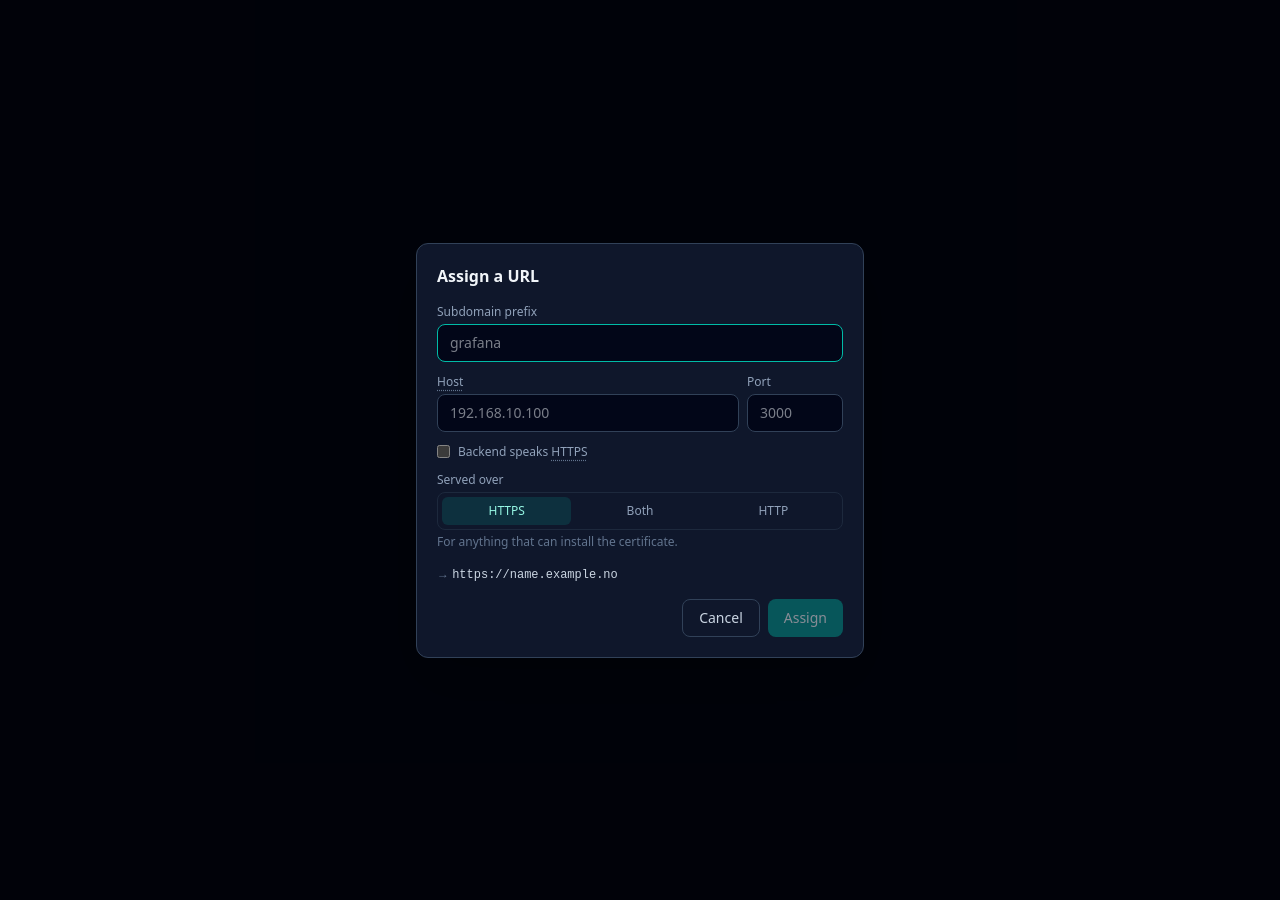
Test: shows where it will open as you type the prefix, over the scheme picked
In the field with placeholder "grafana": coordinates (640, 342) 437,324 -> 843,362, type "jelly"
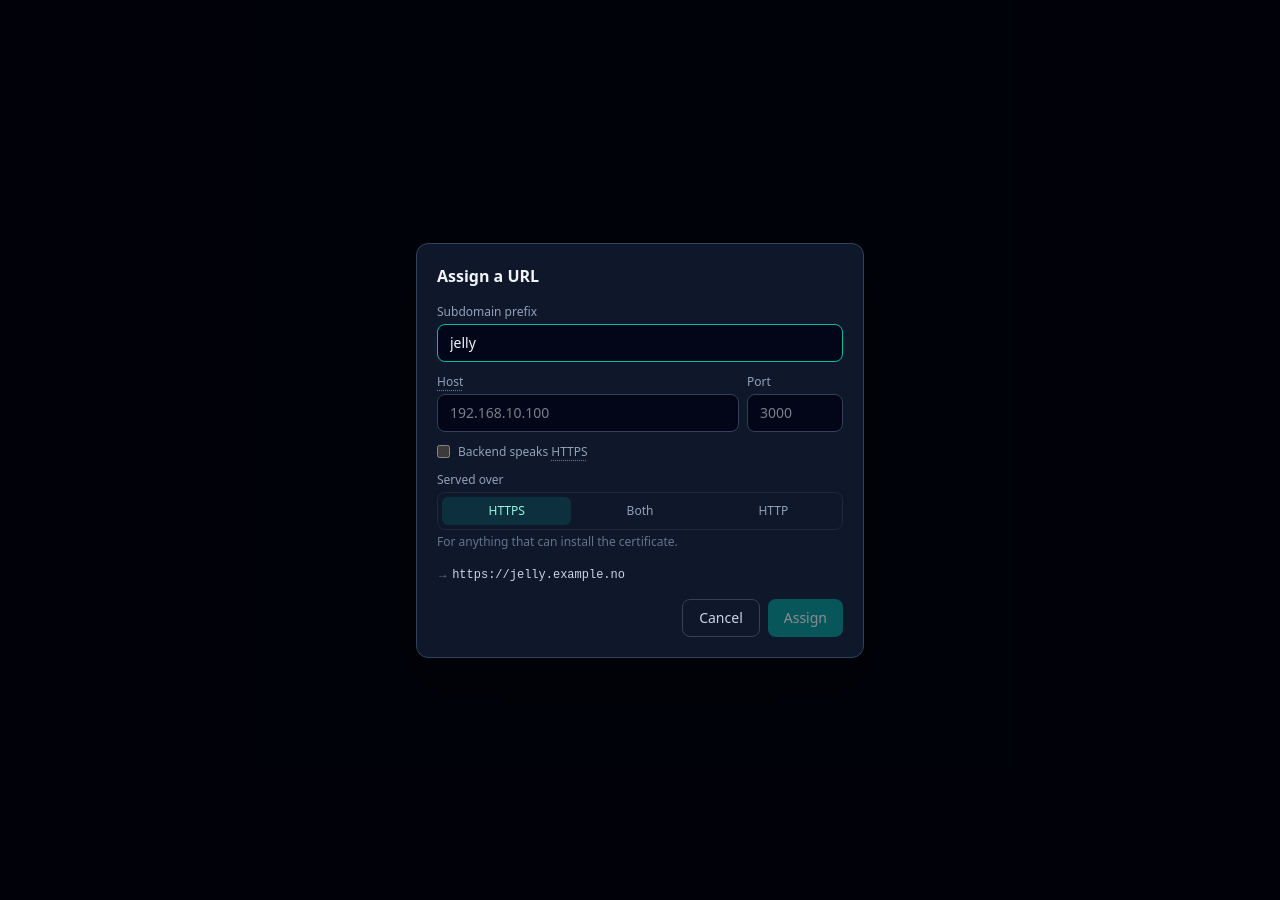
Result: the text "https://jelly.example.no" is shown at 452,568 -> 625,582
Click the button "HTTP": coordinates (773, 510) 709,496 -> 838,524
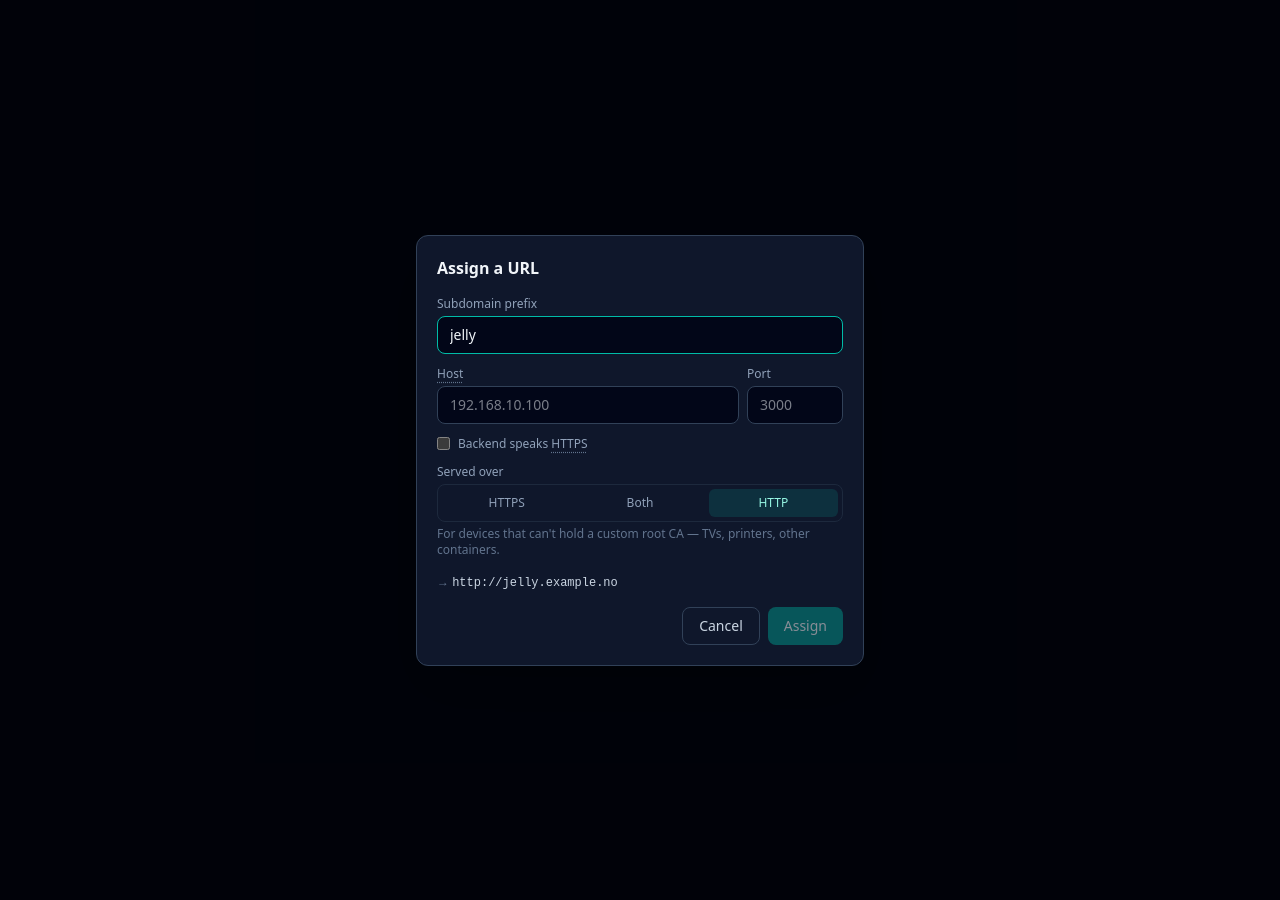
Result: the text "http://jelly.example.no" is shown at 452,576 -> 618,590
